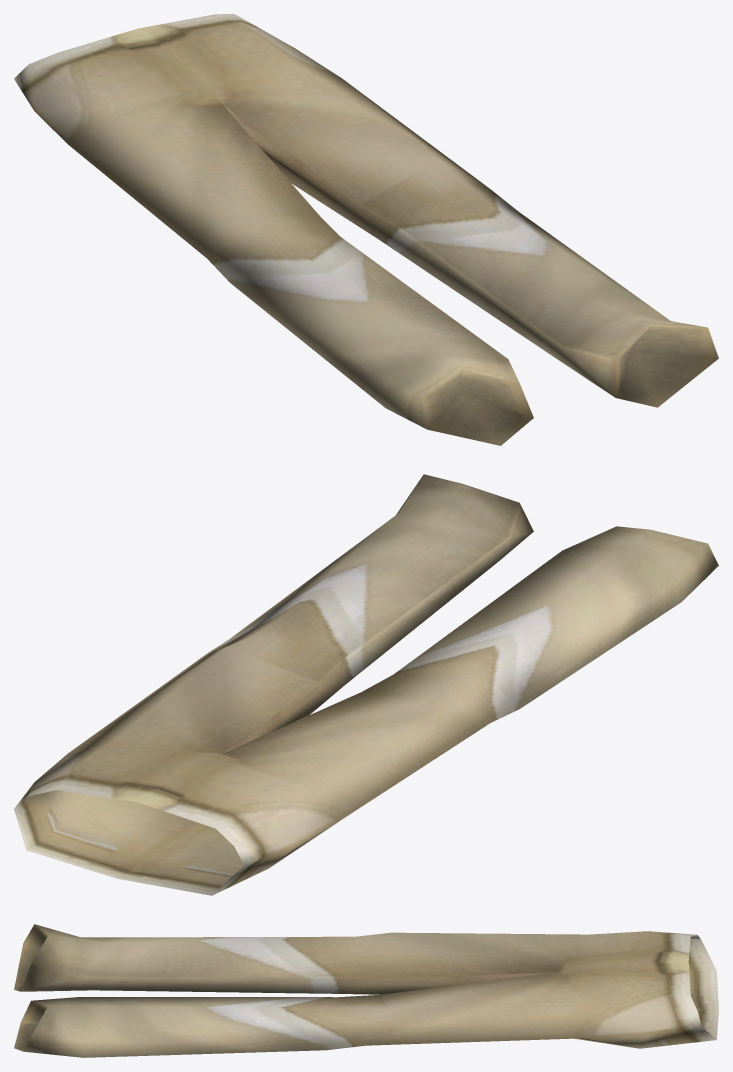
Rendered from m_Legs1.glb.
3 views of the same model, one above another, from view 1: azimuth 30°, elevation 25°; view 2: azimuth 150°, elevation 25°; view 3: azimuth 270°, elevation 25° (orthographic). The views are drawn at different scales.
Parts seen in each view (by area): view 1: Legs1; view 2: Legs1; view 3: Legs1.
Part boxes in pixels (x1,y1,x2,y2): Legs1: (14, 14, 718, 445); Legs1: (14, 474, 718, 895); Legs1: (14, 924, 718, 1057).
Bounding box in the file's own units: 21.13 × 5.11 × 57.09.
1 material, 1 textured.
